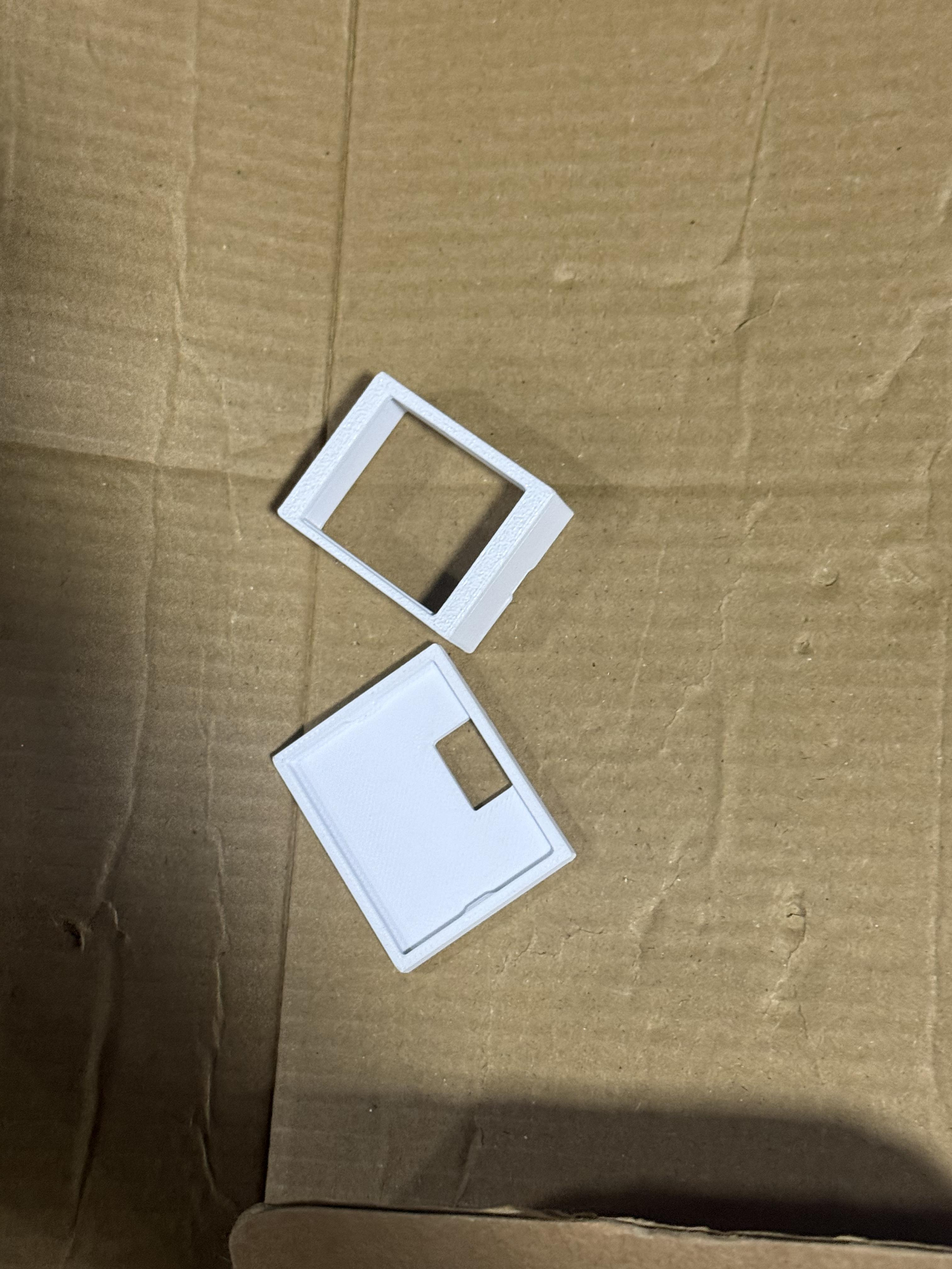enclosure: (270, 641, 577, 973), (276, 370, 574, 654)
